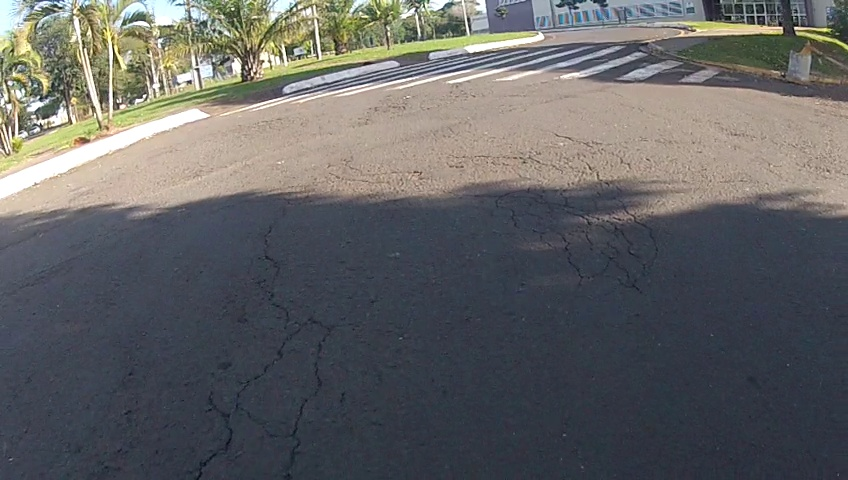TRF: (483, 146, 716, 313), (225, 186, 334, 480)
